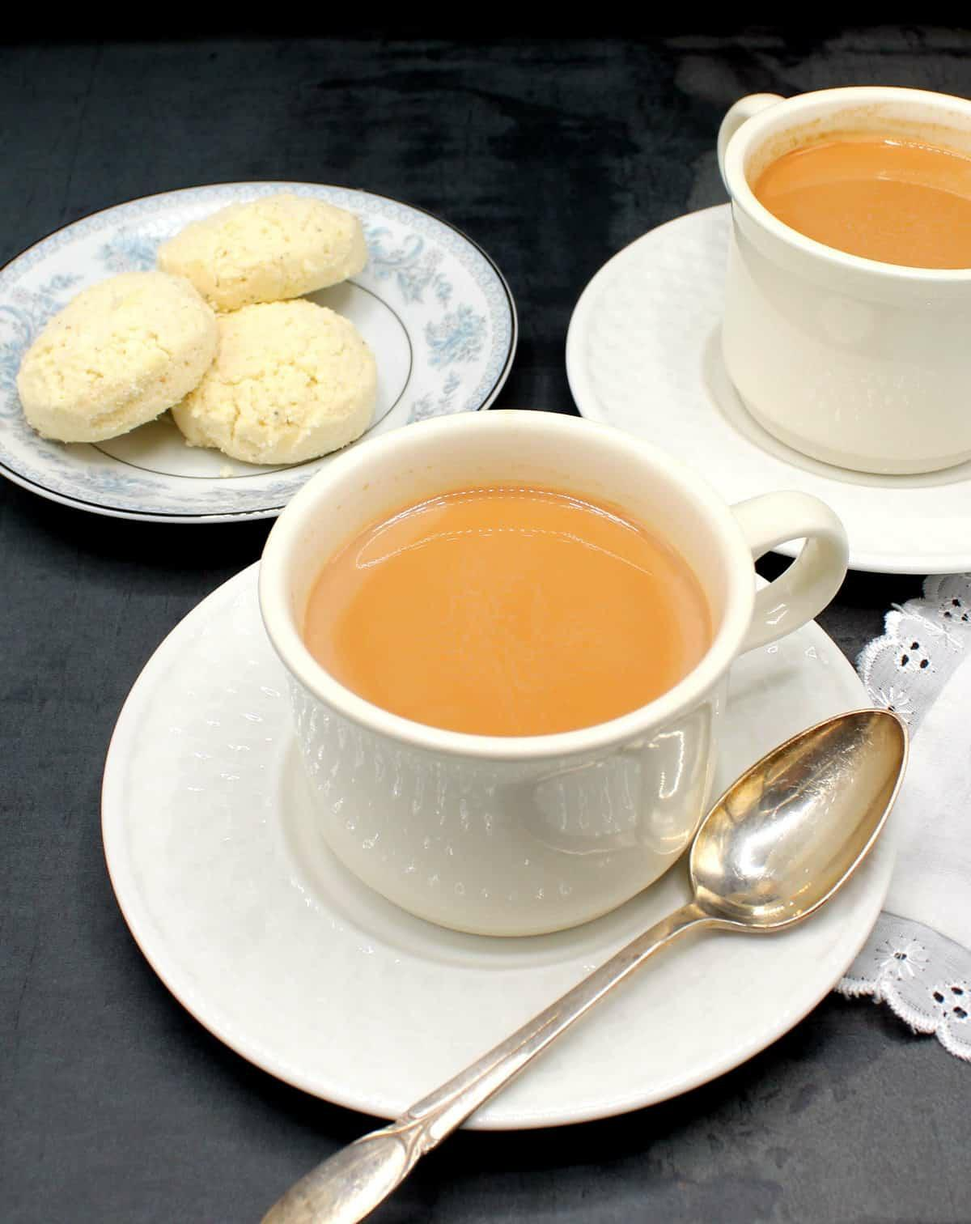Chai: (301, 480, 712, 733), (758, 111, 971, 280)
